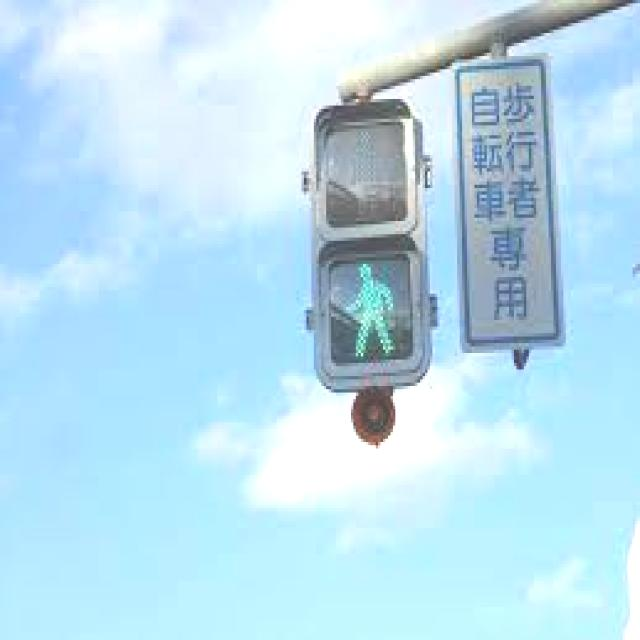trafficlight: (302, 106, 432, 386)
